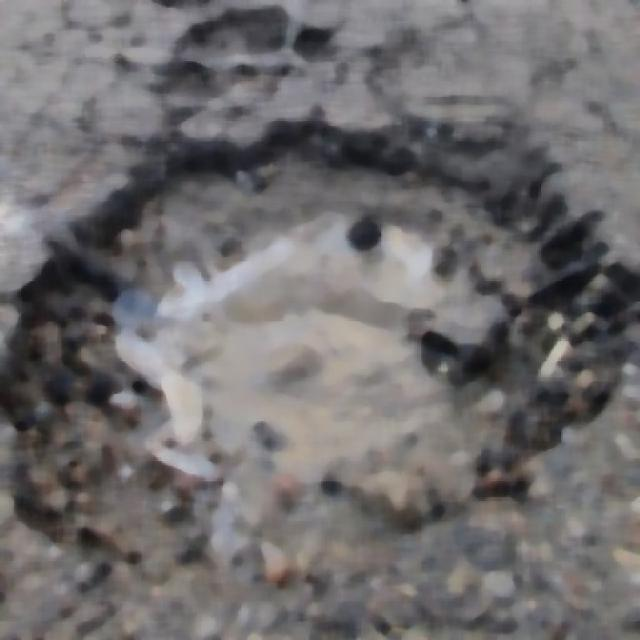Pothole: (79, 132, 515, 514)
